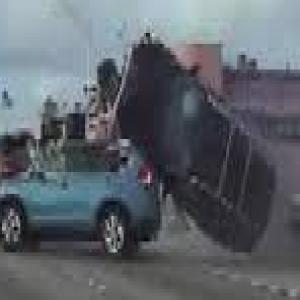serious: (111, 13, 286, 262)
